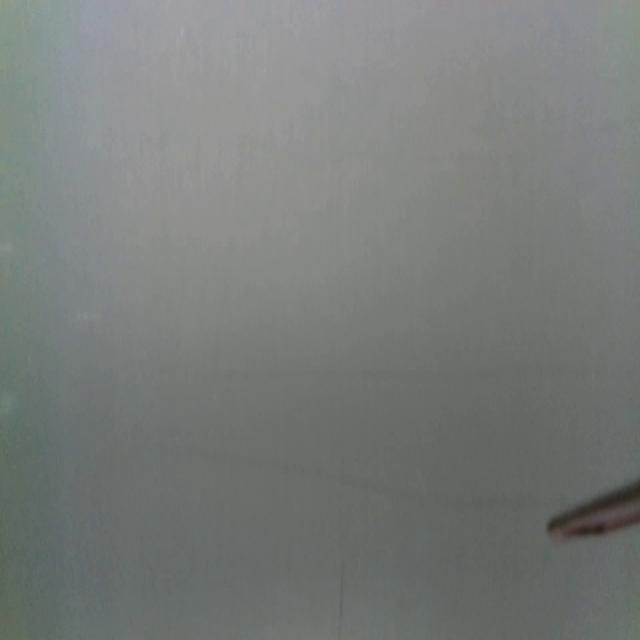color bleeding: (147, 439, 543, 529), (204, 352, 640, 397)
crease: (336, 557, 348, 640)
